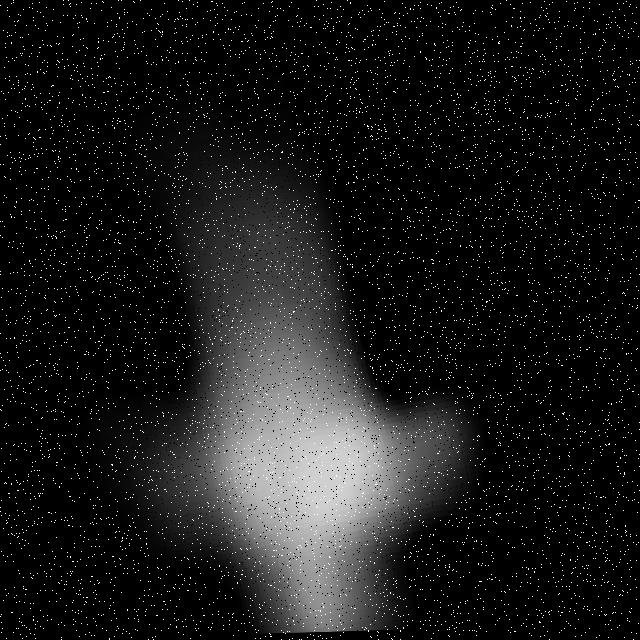person: (54, 145, 500, 640)
